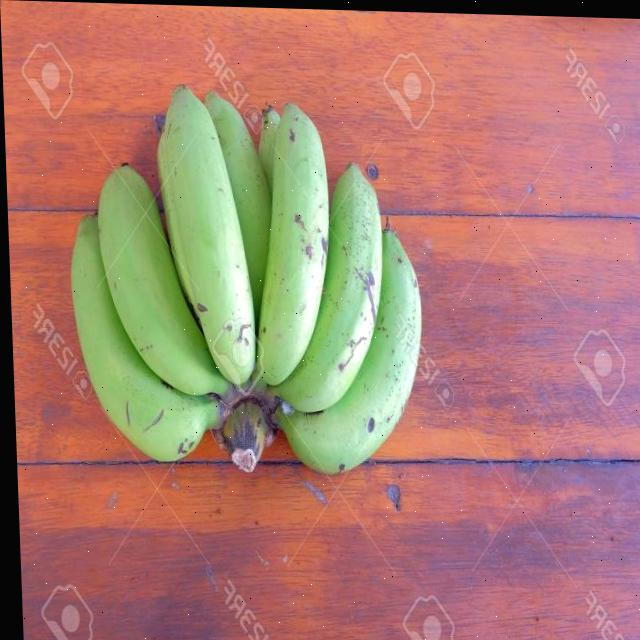banana: (57, 73, 433, 488)
